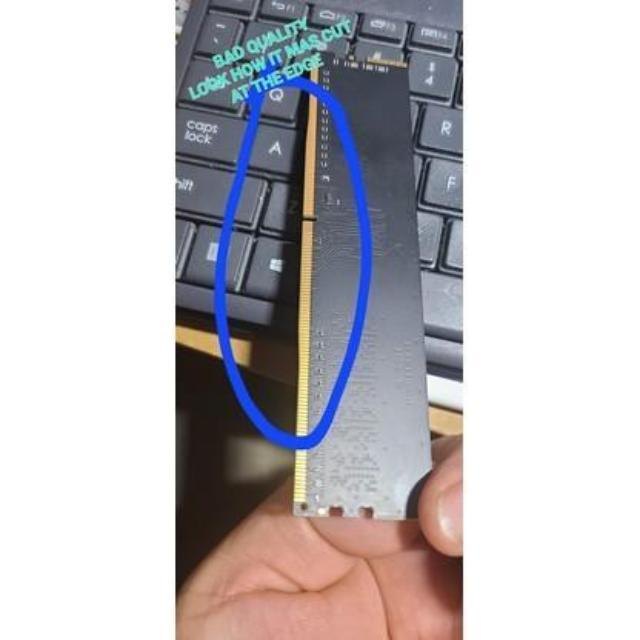RAM: (287, 46, 436, 523)
